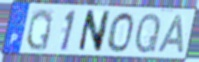1: (60, 9, 78, 53)
A: (155, 14, 184, 55)
N: (76, 9, 112, 54)
O: (106, 11, 135, 54)
Q: (24, 7, 54, 52), (133, 11, 162, 56)
